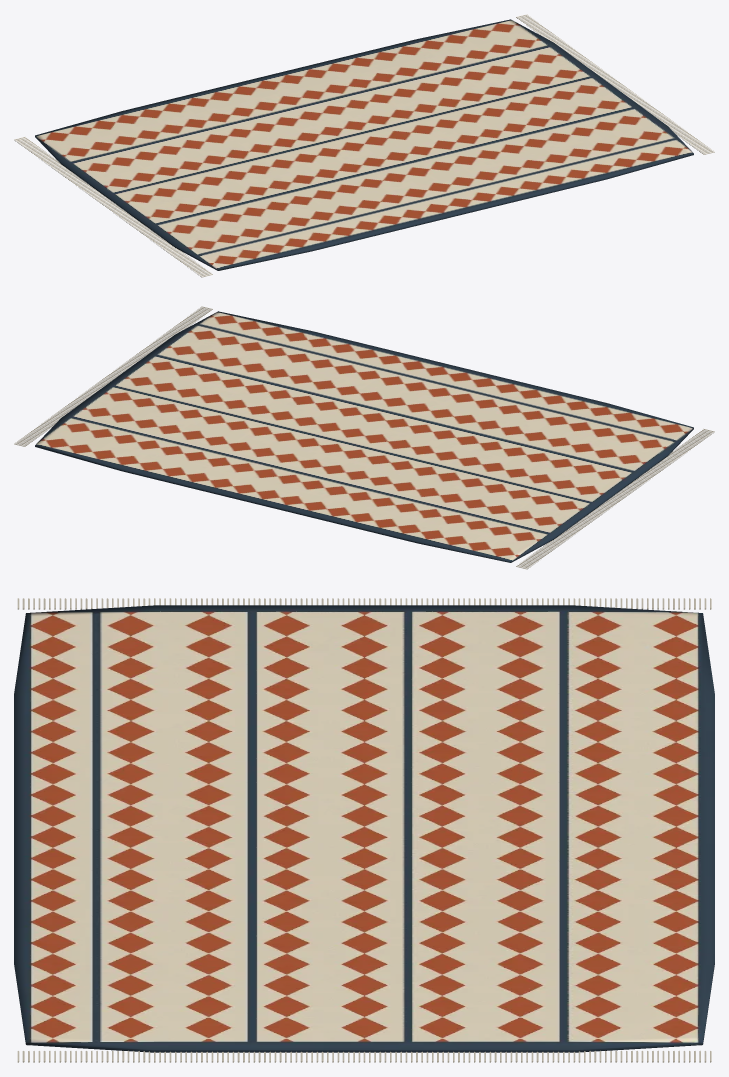
The model's file is kilim-terracotta.glb.
3 views of the same model, one above another, from view 1: azimuth 30°, elevation 25°; view 2: azimuth 150°, elevation 25°; view 3: azimuth 270°, elevation 25° (orthographic). The views are drawn at different scales.
Parts seen in each view (by area): view 1: rug_wool, fringe_cotton; view 2: rug_wool, fringe_cotton; view 3: rug_wool, fringe_cotton.
Boxes of the visible parts, x1=… form: rug_wool: x1=35, y1=19, x2=693, y2=270; fringe_cotton: x1=14, y1=14, x2=714, y2=277; rug_wool: x1=35, y1=311, x2=693, y2=562; fringe_cotton: x1=14, y1=306, x2=714, y2=569; rug_wool: x1=14, y1=605, x2=714, y2=1052; fringe_cotton: x1=17, y1=598, x2=711, y2=1062.
Bounding box in the file's own units: 2.5 × 0.012 × 1.6.
2 materials, 2 textured.
